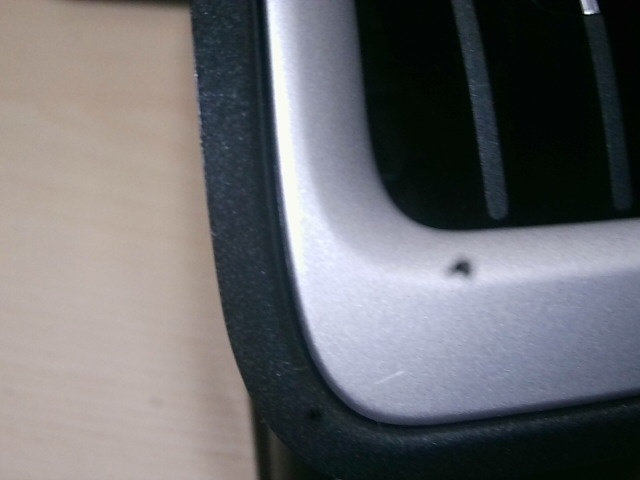NG: (372, 365, 419, 387)
